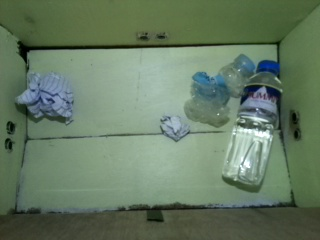bottle: (222, 57, 284, 188)
damaged-bottle: (183, 54, 257, 128)
paper: (14, 72, 75, 126), (157, 112, 191, 142)
